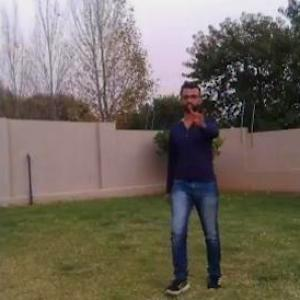takeoff-hand: (187, 96, 216, 132)
